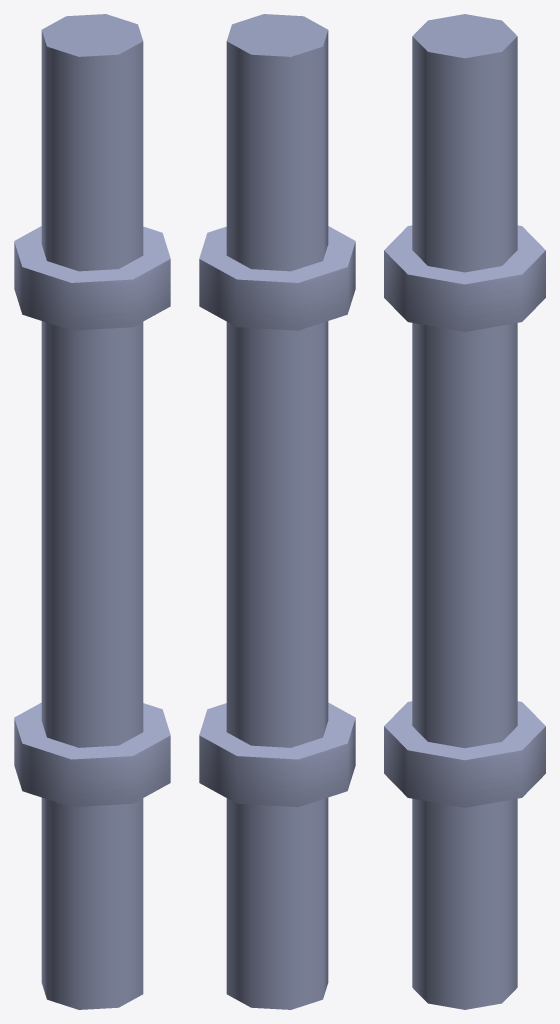
The model's file is building_gutter_vertical.glb.
3 renders of one model, left to right at view 1: azimuth 30°, elevation 25°; view 2: azimuth 150°, elevation 25°; view 3: azimuth 270°, elevation 25°, orthographic.
Visible parts, largest first — view 1: gutter-vertical; view 2: gutter-vertical; view 3: gutter-vertical.
Part boxes in pixels (left/top/right/bottom): gutter-vertical: left=14, top=14, right=170, bottom=1009; gutter-vertical: left=199, top=14, right=355, bottom=1009; gutter-vertical: left=384, top=14, right=545, bottom=1009.
Size of the model in its own units: 0.3082 by 2 by 0.3082.
1 material, 1 textured.
